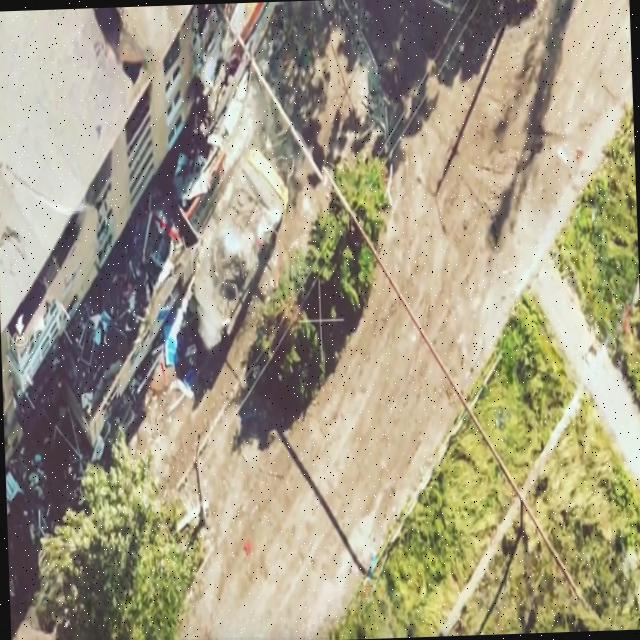AIFV: (180, 143, 298, 354)
